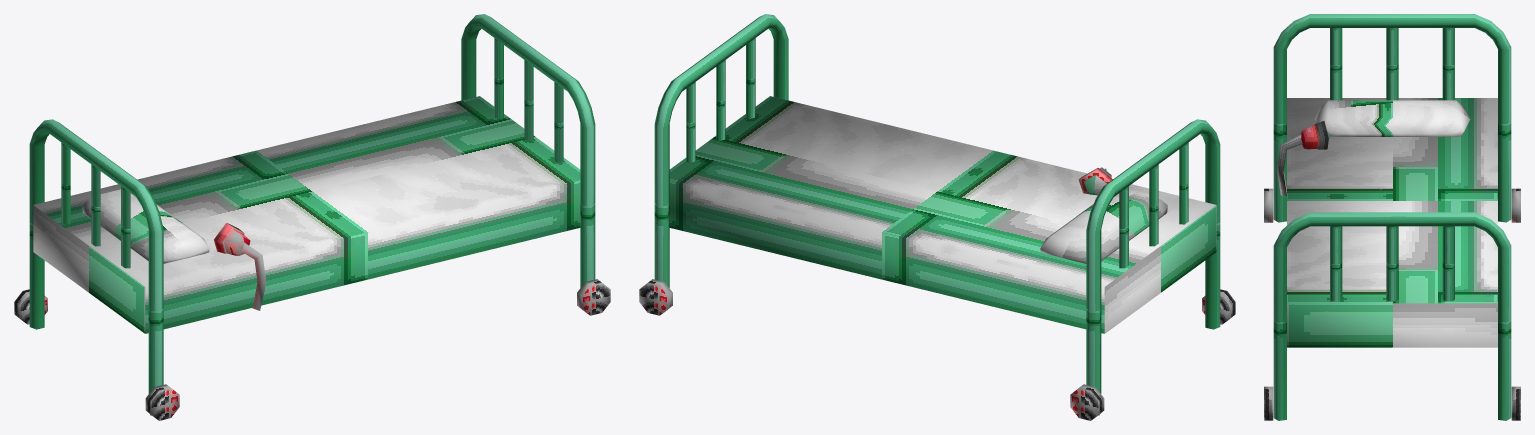
Rendered from int_hsp_bedS.dae.
3 views of the same model, side by side, from view 1: azimuth 30°, elevation 25°; view 2: azimuth 150°, elevation 25°; view 3: azimuth 270°, elevation 25° (orthographic). The views are drawn at different scales.
Visible parts, largest first — view 1: int_hsp_bedS; view 2: int_hsp_bedS; view 3: int_hsp_bedS.
Boxes of the visible parts, bbox=[...] form: int_hsp_bedS: bbox=[14, 14, 610, 420]; int_hsp_bedS: bbox=[639, 14, 1235, 420]; int_hsp_bedS: bbox=[1264, 14, 1520, 420].
Size of the model in its own units: 61.34 by 27.83 by 31.52.
Materials: 2 (2 with a texture image).
